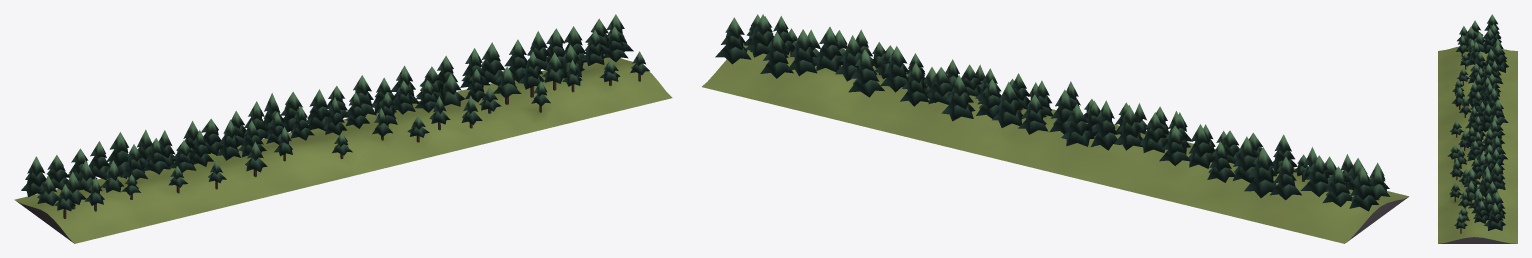
Rendered from ForestStrip.fbx.
3 views of the same model, side by side, from view 1: azimuth 30°, elevation 25°; view 2: azimuth 150°, elevation 25°; view 3: azimuth 270°, elevation 25° (orthographic). The views are drawn at different scales.
Visible parts, largest first — view 1: ForestStrip; view 2: ForestStrip; view 3: ForestStrip.
Part boxes in pixels (x1,y1,x2,y2): ForestStrip: [14, 14, 672, 243]; ForestStrip: [702, 14, 1409, 243]; ForestStrip: [1438, 14, 1517, 243].
Bounding box in the file's own units: 102 × 10.15 × 17.5.
